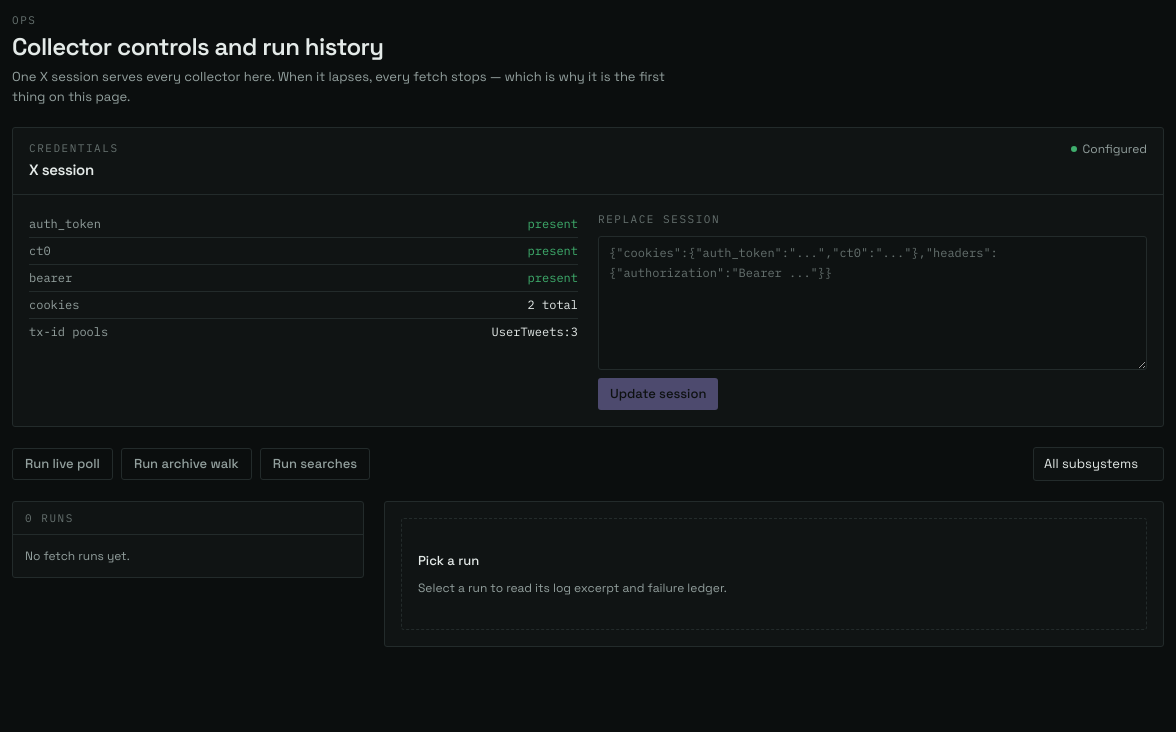
Test: session health panel › rejects malformed JSON with a readable message and no request
Expected: the button "Update session" is shown, [598,378,718,410]
Type "not json" into the text box named "X session JSON" at (872, 302), box [598,236,1147,370]
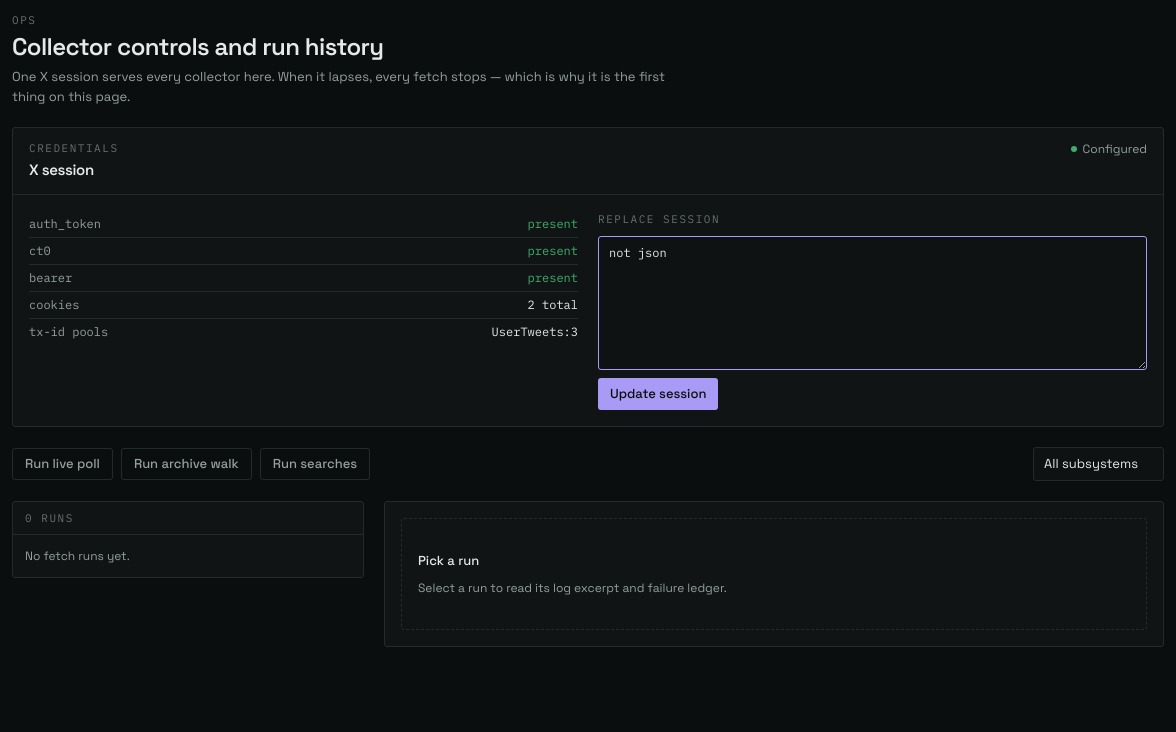
Click the button "Update session" at (658, 394), box [598,378,718,410]
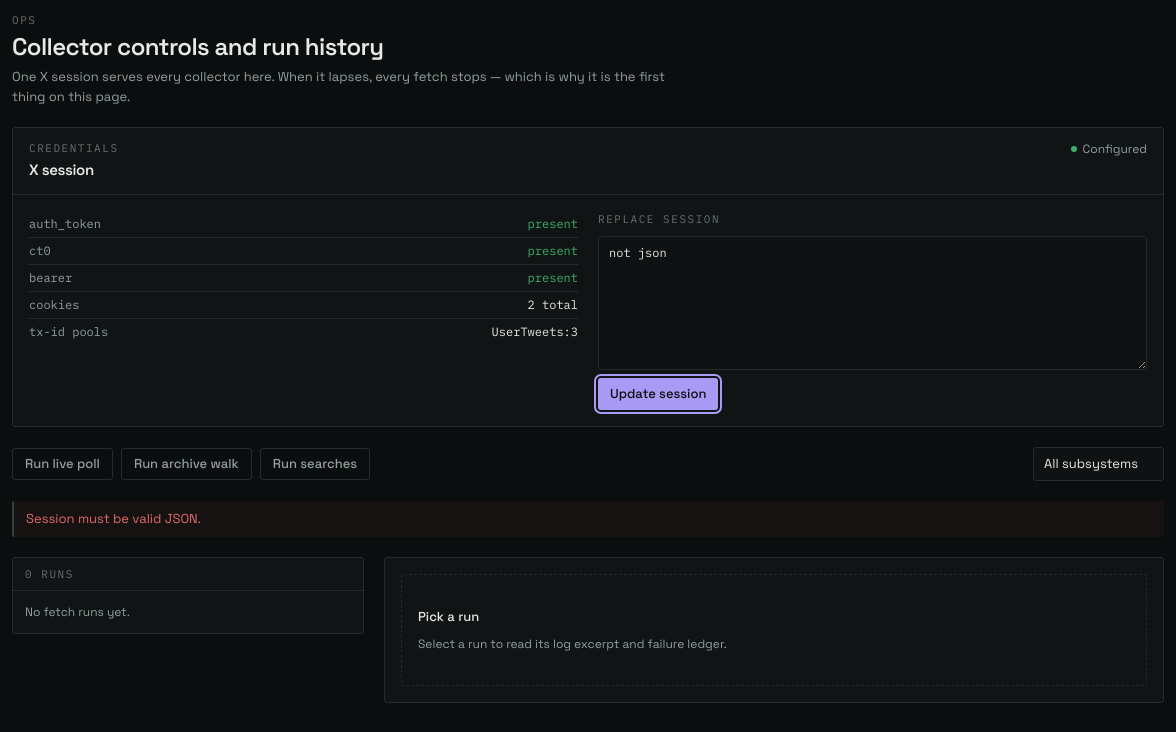
Expected: the text "Session must be valid JSON." is shown, [12,500,1164,536]
